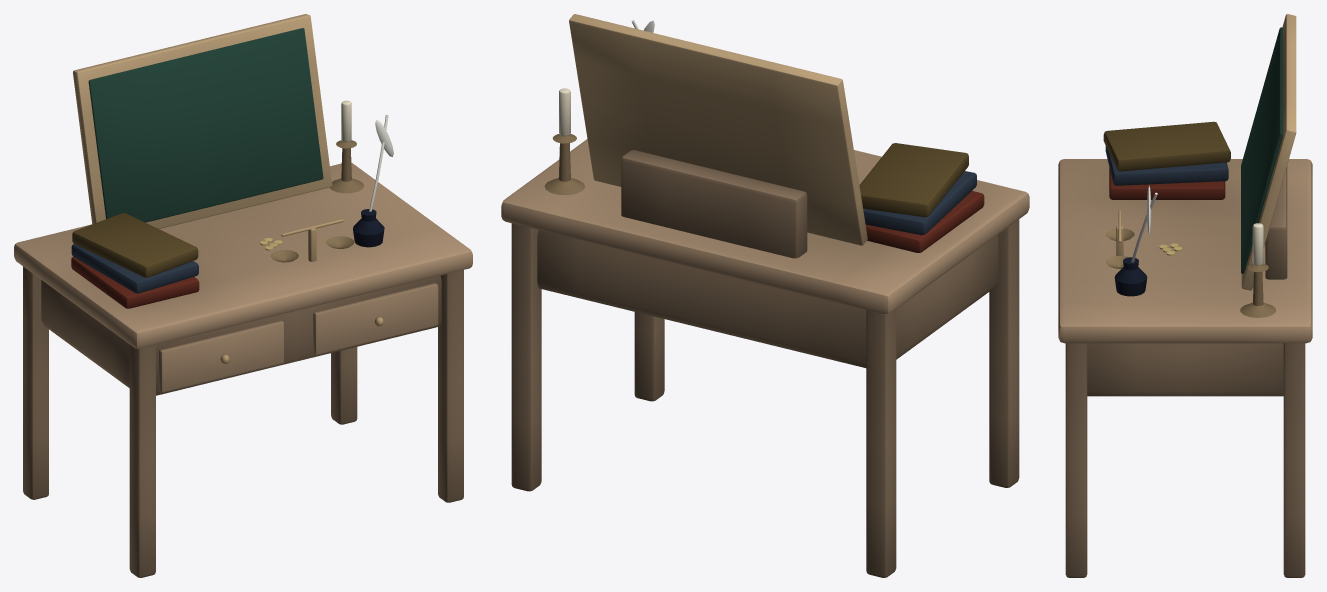
The model's file is obj_kit_desk.glb.
3 renders of one model, left to right at view 1: azimuth 30°, elevation 25°; view 2: azimuth 150°, elevation 25°; view 3: azimuth 270°, elevation 25°, orthographic. The views are drawn at different scales.
Visible parts, largest first — view 1: slate, Cube, Cube.005, Cube.001, Cube.003, Cube.007, Cube.002, Cube.006, Cube.011, Cube.009, Cube.010, Cube.004 (+2 smaller); view 2: slate, Cube, Cube.005, Cube.008, Cube.002, Cube.004, Cube.001, Cube.011, Cube.003, Cube.009, Cube.010, cs; view 3: Cube, Cube.005, slate, Cube.003, Cube.004, Cube.011, Cube.010, Cube.009, Cube.008, ink, cs, Cylinder.005.
Part boxes in pixels (bbox=[...]): slate: bbox=[73, 14, 332, 228]; Cube: bbox=[14, 162, 472, 348]; Cube.005: bbox=[41, 275, 441, 395]; Cube.001: bbox=[129, 344, 155, 577]; Cube.003: bbox=[438, 270, 463, 502]; Cube.007: bbox=[313, 283, 438, 354]; Cube.002: bbox=[23, 266, 48, 499]; Cube.006: bbox=[159, 320, 283, 392]; Cube.011: bbox=[72, 213, 198, 277]; Cube.009: bbox=[71, 257, 199, 308]; Cube.010: bbox=[71, 244, 198, 293]; Cube.004: bbox=[331, 347, 357, 424]; slate: bbox=[569, 14, 867, 245]; Cube: bbox=[501, 139, 1029, 314]; Cube.005: bbox=[537, 230, 998, 367]; Cube.008: bbox=[621, 150, 807, 258]; Cube.002: bbox=[866, 309, 896, 577]; Cube.004: bbox=[511, 223, 541, 491]; Cube.001: bbox=[989, 219, 1019, 487]; Cube.011: bbox=[859, 143, 968, 217]; Cube.003: bbox=[634, 312, 664, 401]; Cube.009: bbox=[865, 191, 984, 252]; Cube.010: bbox=[863, 171, 976, 235]; cs: bbox=[544, 134, 584, 195]; Cube: bbox=[1058, 159, 1312, 343]; Cube.005: bbox=[1087, 343, 1283, 396]; slate: bbox=[1241, 14, 1296, 290]; Cube.003: bbox=[1065, 343, 1087, 577]; Cube.004: bbox=[1283, 343, 1305, 577]; Cube.011: bbox=[1103, 121, 1230, 171]; Cube.010: bbox=[1105, 146, 1228, 185]; Cube.009: bbox=[1109, 167, 1225, 199]; Cube.008: bbox=[1265, 166, 1287, 279]; ink: bbox=[1114, 257, 1147, 296]; cs: bbox=[1240, 263, 1275, 317]; Cylinder.005: bbox=[1252, 223, 1263, 265].
Size of the model in its own units: 1.1 by 1.29 by 0.7.
